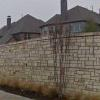Chimney: (6, 9, 13, 31)
